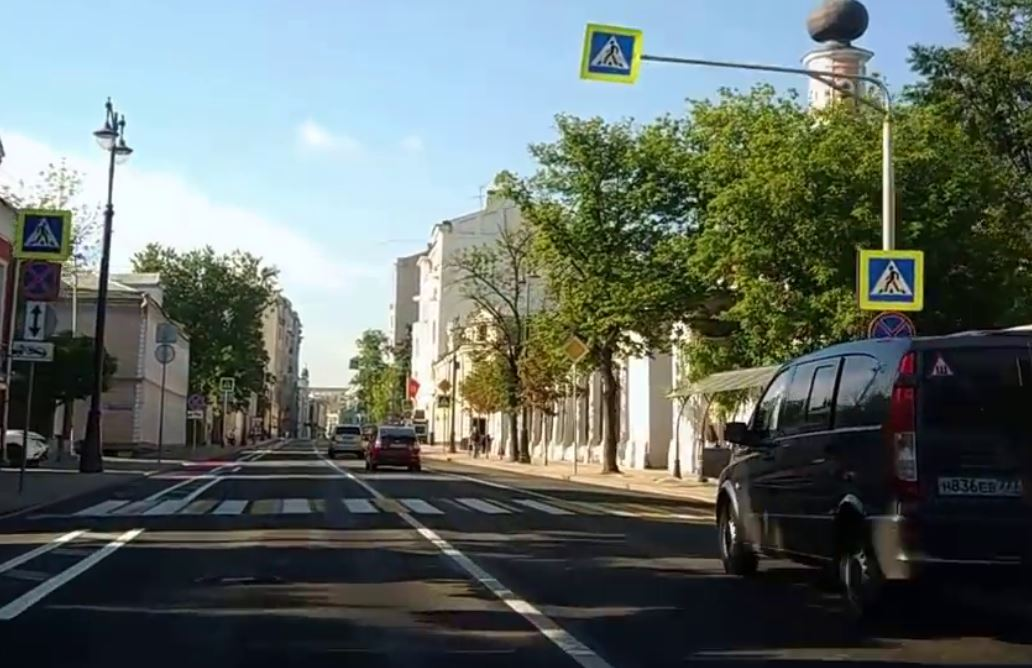Yaya Gecidi: (870, 255, 917, 301), (589, 30, 634, 74), (24, 213, 63, 250)
